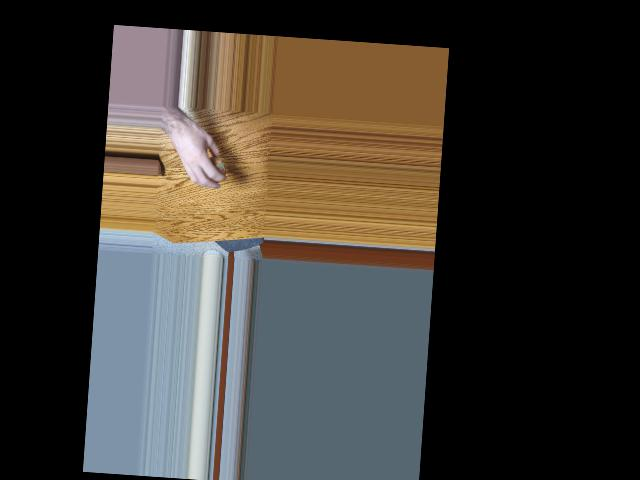onion: (204, 155, 226, 184)
